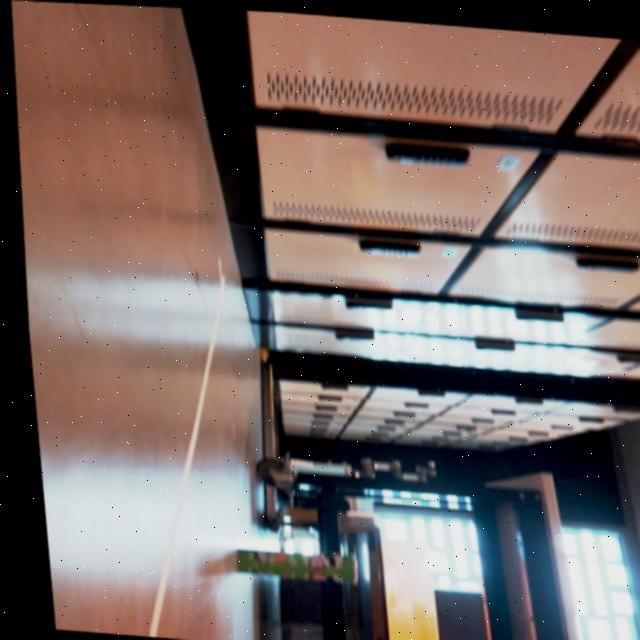greenpringles: (222, 527, 358, 587)
